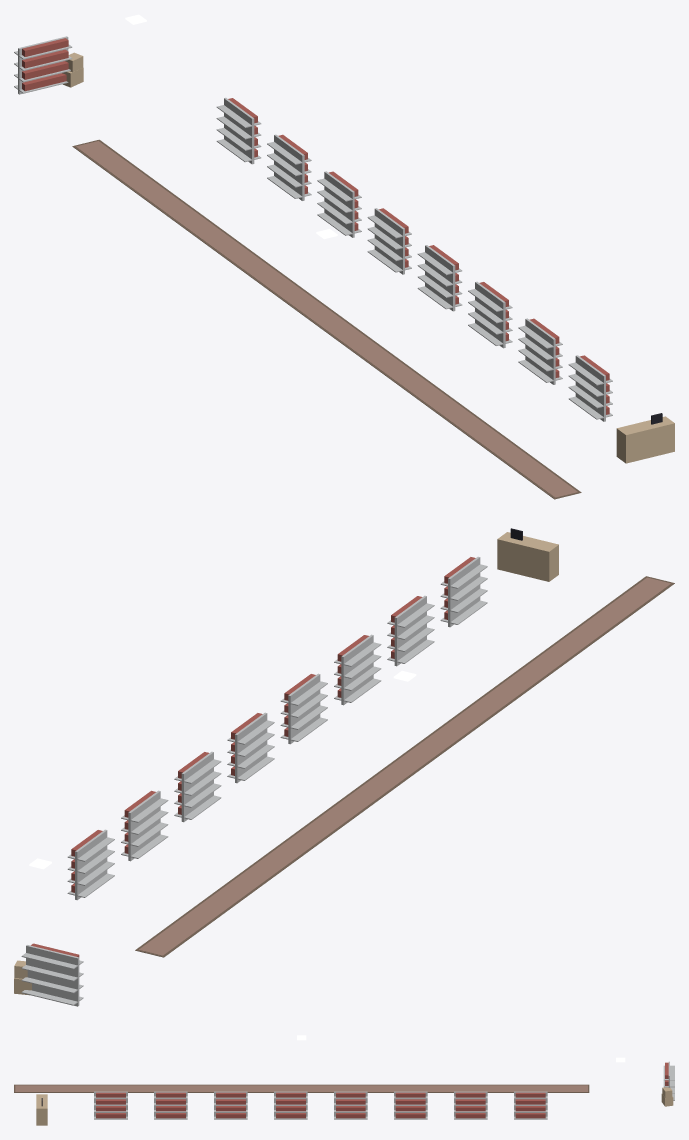
File: fine-s0.glb
The picture shows the model from 3 angles, top to bottom: view 1: azimuth 30°, elevation 25°; view 2: azimuth 150°, elevation 25°; view 3: azimuth 270°, elevation 25°; orthographic projection. The views are drawn at different scales.
Parts seen in each view (by area): view 1: soft-s0, shelving.000, shop-counter.000, shelf.002, shelf.006, shelf.007, shelf.003, shelf.000, shelf.004, shelf.001, shelf.005; view 2: soft-s0, shelving.000, shop-counter.000, shelf.001, shelf.000, shelf.004, shelf.005, shelf.003, shelf.007, shelf.002, shelf.006; view 3: soft-s0, shelf.000, shelf.001, shelf.002, shelf.003, shelf.004, shelf.005, shelf.006, shelf.007, shop-counter.000, shelving.000, cardboard-box.000.
Boxes of the visible parts, box(x1,y1,x2,y2) form: soft-s0: box(72, 139, 581, 499); shelving.000: box(14, 36, 72, 94); shop-counter.000: box(616, 413, 674, 463); shelf.002: box(317, 171, 361, 237); shelf.006: box(518, 318, 562, 384); shelf.007: box(568, 355, 612, 421); shelf.003: box(367, 208, 411, 274); shelf.000: box(216, 97, 261, 164); shelf.004: box(417, 245, 462, 311); shelf.001: box(267, 134, 311, 200); shelf.005: box(468, 281, 512, 348); soft-s0: box(135, 576, 674, 957); shelving.000: box(21, 943, 83, 1006); shop-counter.000: box(497, 528, 558, 581); shelf.001: box(121, 790, 168, 861); shelf.000: box(67, 829, 114, 900); shelf.004: box(280, 673, 327, 744); shelf.005: box(334, 634, 381, 705); shelf.003: box(227, 712, 274, 783); shelf.007: box(440, 556, 487, 627); shelf.002: box(174, 751, 221, 822); shelf.006: box(387, 595, 434, 666); soft-s0: box(14, 1084, 589, 1092); shelf.000: box(514, 1091, 547, 1119); shelf.001: box(454, 1091, 487, 1119); shelf.002: box(394, 1091, 427, 1119); shelf.003: box(334, 1091, 367, 1119); shelf.004: box(274, 1091, 307, 1119); shelf.005: box(214, 1091, 247, 1119); shelf.006: box(154, 1091, 187, 1119); shelf.007: box(94, 1091, 127, 1119); shop-counter.000: box(36, 1094, 47, 1125); shelving.000: box(663, 1061, 674, 1100); cardboard-box.000: box(661, 1087, 673, 1106).
Size of the model in its own units: 5.12 by 3.03 by 35.28.
